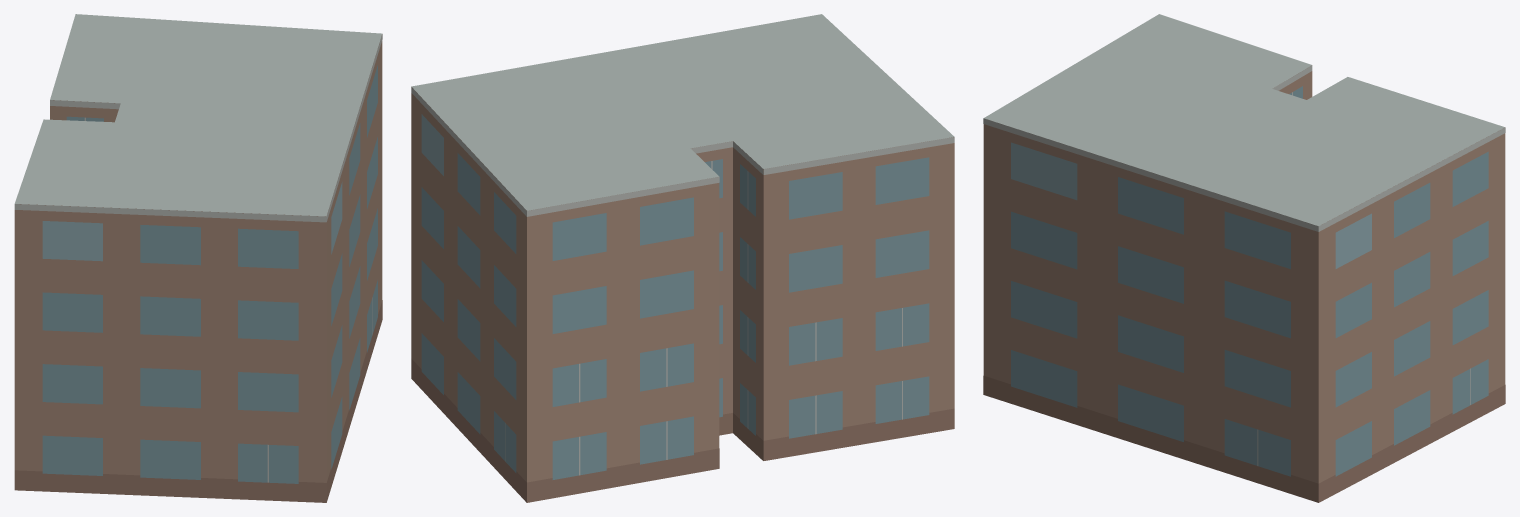
File: survey-upis-32574582.glb
3 views of the same model, side by side, from view 1: azimuth 30°, elevation 25°; view 2: azimuth 150°, elevation 25°; view 3: azimuth 270°, elevation 25° (orthographic). The views are drawn at different scales.
Parts seen in each view (by area): view 1: survey-upis-32574582.tmp; view 2: survey-upis-32574582.tmp; view 3: survey-upis-32574582.tmp.
Part boxes in pixels (<box>): survey-upis-32574582.tmp: <box>14,14,382,502</box>; survey-upis-32574582.tmp: <box>411,14,954,502</box>; survey-upis-32574582.tmp: <box>983,14,1505,502</box>.
Size of the model in its own units: 19.26 by 11.7 by 20.01.
